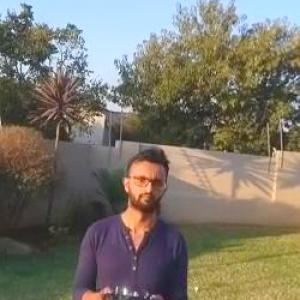follow: (69, 144, 194, 299)
